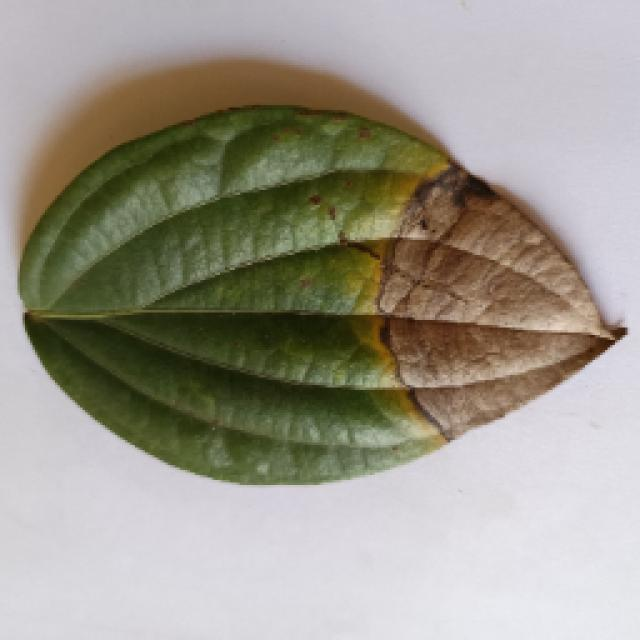footrot: (10, 105, 612, 490)
